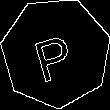P_N: (31, 23, 80, 82)
